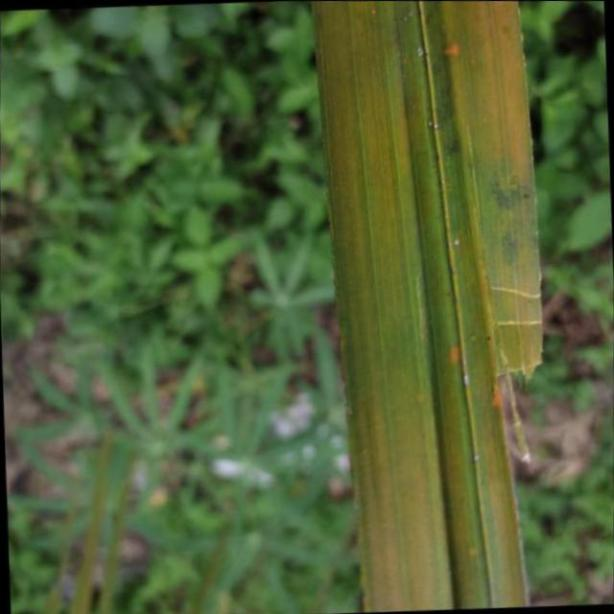Megnesium: (310, 0, 548, 614)
